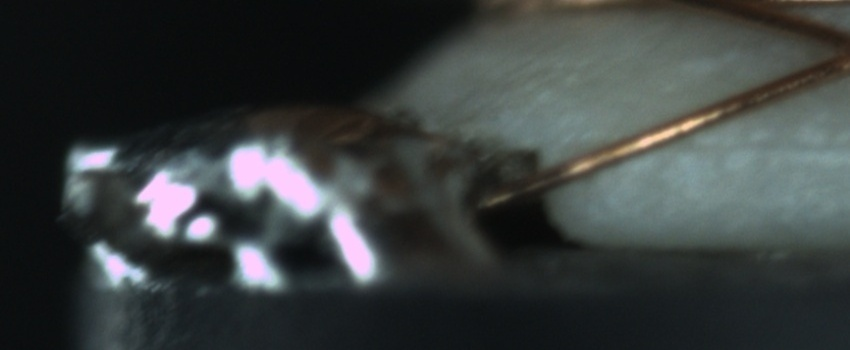DL: (666, 112, 850, 177)
